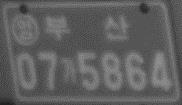0: (15, 52, 38, 91)
4: (150, 50, 174, 94)
5: (76, 50, 102, 91)
6: (123, 50, 148, 92)
7: (34, 50, 59, 92)
8: (101, 52, 123, 91)
가: (59, 56, 80, 85)
부산_D: (43, 11, 131, 42)
영: (10, 13, 41, 47)
